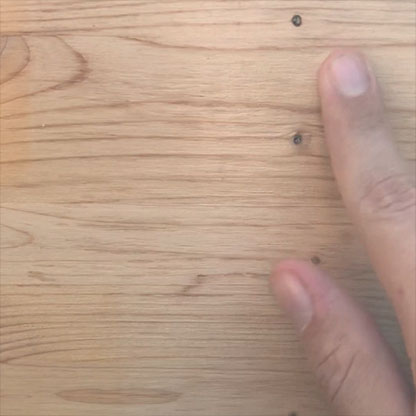fingertip: (305, 40, 388, 107)
